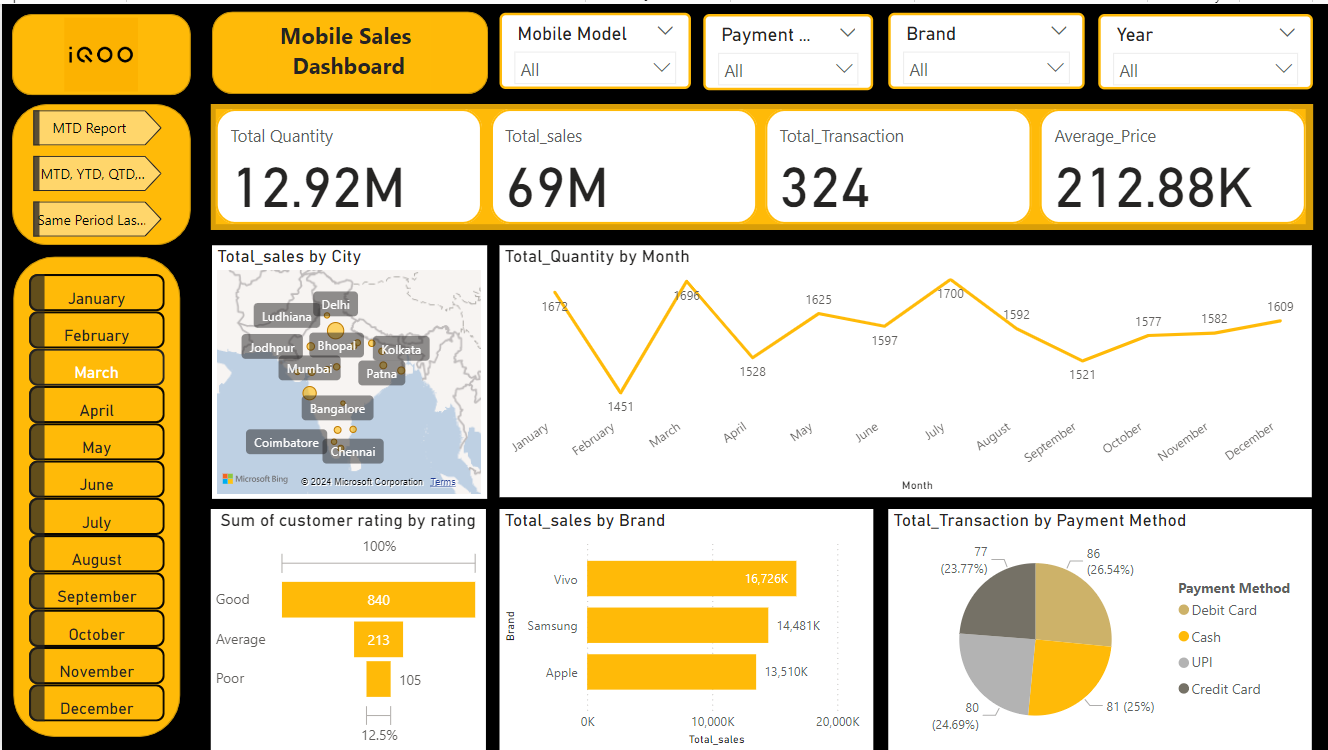

This screenshot's page, from the dashboard's own definition file:
{"tool":"powerbi","page":{"name":"Dashboard","canvas":[1280,720],"ordinal":0},"visuals":[{"type":"shape","box":[9.7,9.7,172.5,78.4],"z":0},{"type":"shape","box":[10,96.2,172.5,136.2],"z":1000},{"type":"shape","box":[11.2,243.8,161.2,463.8],"z":2000},{"type":"cardVisual","fields":{"Data":["Sum(Sales data.Price Per Unit)","Sales data.Total_sales","Sales data.Total_Transaction","Sales data.Average_Price"]},"box":[201.5,96.5,1064.1,121.9],"z":3000},{"type":"advancedSlicerVisual","fields":{"Values":["Custom_calender.Date.Variation.Date Hierarchy.Month"]},"box":[10.9,256,161.7,441.6],"z":4000},{"type":"shape","box":[202.7,7.2,266.6,79.6],"z":5000},{"type":"textbox","box":[255.8,9.7,158,73.6],"z":6000},{"type":"slicer","fields":{"Values":["Sales data.Mobile Model"]},"box":[480.2,8.4,184.6,73.6],"z":7000},{"type":"slicer","fields":{"Values":["Sales data.Brand"]},"box":[855.4,8.4,189.4,73.6],"z":8000},{"type":"slicer","fields":{"Values":["Sales data.Payment Method"]},"box":[676.8,9.7,164.1,73.6],"z":9000},{"type":"image","box":[9.7,8.4,172.5,80.8],"z":10000},{"type":"map","fields":{"Category":["Sales data.City"],"Size":["Sales data.Total_sales"]},"box":[202.7,232.8,265.4,244.9],"z":11000},{"type":"lineChart","fields":{"Y":["Sales data.Total_Quantity"],"Category":["Custom_calender.Date.Variation.Date Hierarchy.Month"]},"box":[480,232.9,784.3,242.9],"z":12000},{"type":"slicer","fields":{"Values":["Custom_calender.Date.Variation.Date Hierarchy.Year"]},"box":[1058.6,10,207.1,72.9],"z":13000},{"type":"funnel","title":"Sum of customer rating by rating","fields":{"Y":["Sum(Sales data.Customer Ratings)"],"Category":["Sales data.Rating"]},"box":[201.5,487.4,265.4,232.8],"z":14000},{"type":"clusteredBarChart","fields":{"Category":["Sales data.Brand"],"Y":["Sales data.Total_sales"]},"box":[480.3,487.1,360.9,233.3],"z":15000},{"type":"pieChart","fields":{"Y":["Sales data.Total_Transaction"],"Category":["Sales data.Payment Method"]},"box":[855.7,487.1,408.6,232.9],"z":16000},{"type":"pageNavigator","box":[30,102.9,124.3,122.9],"z":17000}]}

Visuals, with their boxes in screenshot pixels (x1, y1, x2, y2), scaled from the page's 1280x720 canvas onto the 1328x750 screenshot:
shape: 10,10,189,92
shape: 10,100,189,242
shape: 12,254,179,737
cardVisual - Sum(Sales data.Price Per Unit) x Sales data.Total_sales: 209,101,1313,228
advancedSlicerVisual - Custom_calender.Date.Variation.Date Hierarchy.Month: 11,267,179,727
shape: 210,8,487,90
textbox: 265,10,429,87
slicer - Sales data.Mobile Model: 498,9,690,85
slicer - Sales data.Brand: 887,9,1084,85
slicer - Sales data.Payment Method: 702,10,872,87
image: 10,9,189,93
map - Sales data.City x Sales data.Total_sales: 210,243,486,498
lineChart - Sales data.Total_Quantity x Custom_calender.Date.Variation.Date Hierarchy.Month: 498,243,1312,496
slicer - Custom_calender.Date.Variation.Date Hierarchy.Year: 1098,10,1313,86
"Sum of customer rating by rating" funnel: 209,508,484,749
clusteredBarChart - Sales data.Brand x Sales data.Total_sales: 498,507,873,749
pieChart - Sales data.Total_Transaction x Sales data.Payment Method: 888,507,1312,749
pageNavigator: 31,107,160,235
